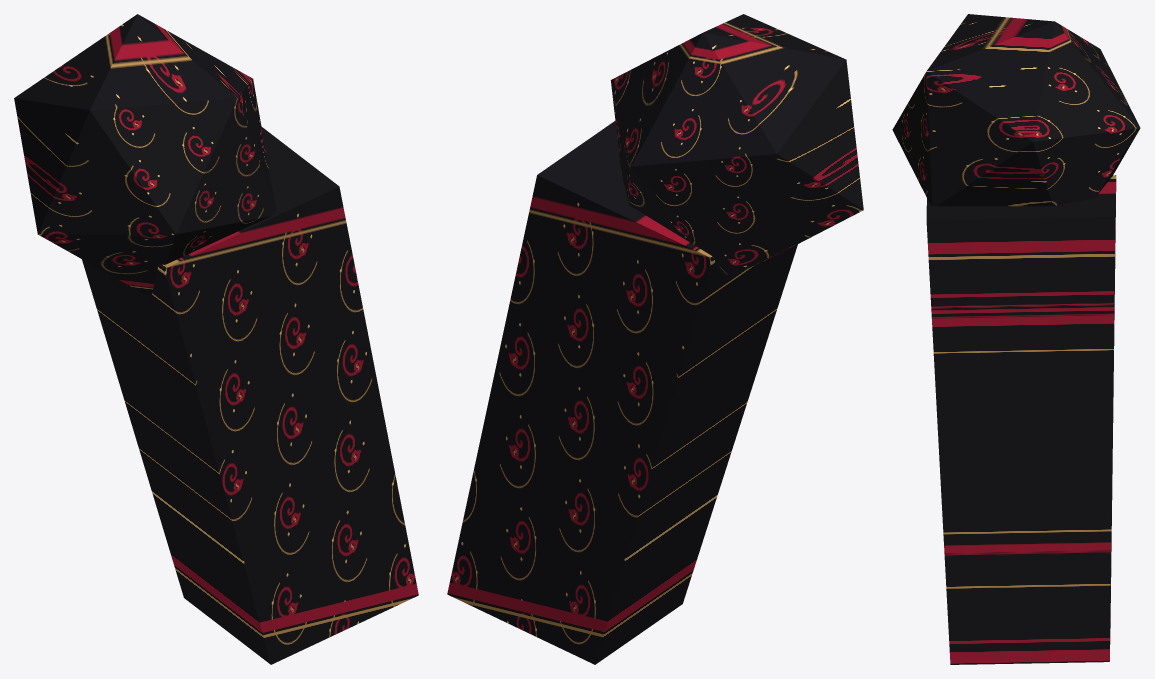
The model's file is Fermin_BrazoIzq.obj.
3 views of the same model, side by side, from view 1: azimuth 30°, elevation 25°; view 2: azimuth 150°, elevation 25°; view 3: azimuth 270°, elevation 25° (orthographic). The views are drawn at different scales.
Visible parts, largest first — view 1: Cube_008_color_fabric, Icosphere_001_color_fabric; view 2: Cube_008_color_fabric, Icosphere_001_color_fabric; view 3: Cube_008_color_fabric, Icosphere_001_color_fabric.
Boxes of the visible parts, <box> form: Cube_008_color_fabric: <box>82,126,418,664</box>; Icosphere_001_color_fabric: <box>14,14,275,297</box>; Cube_008_color_fabric: <box>447,121,797,664</box>; Icosphere_001_color_fabric: <box>610,14,863,276</box>; Cube_008_color_fabric: <box>926,175,1116,664</box>; Icosphere_001_color_fabric: <box>892,14,1140,206</box>.
Size of the model in its own units: 0.9114 by 1.55 by 0.6049.
1 material, 1 textured.
